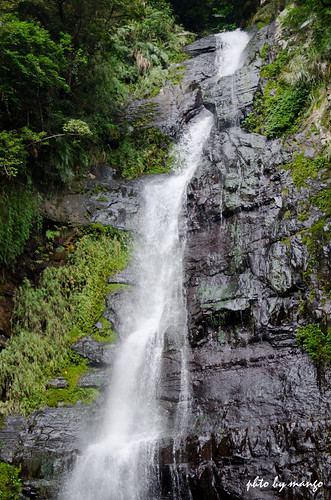wufengciWaterfall: (91, 25, 284, 484)
